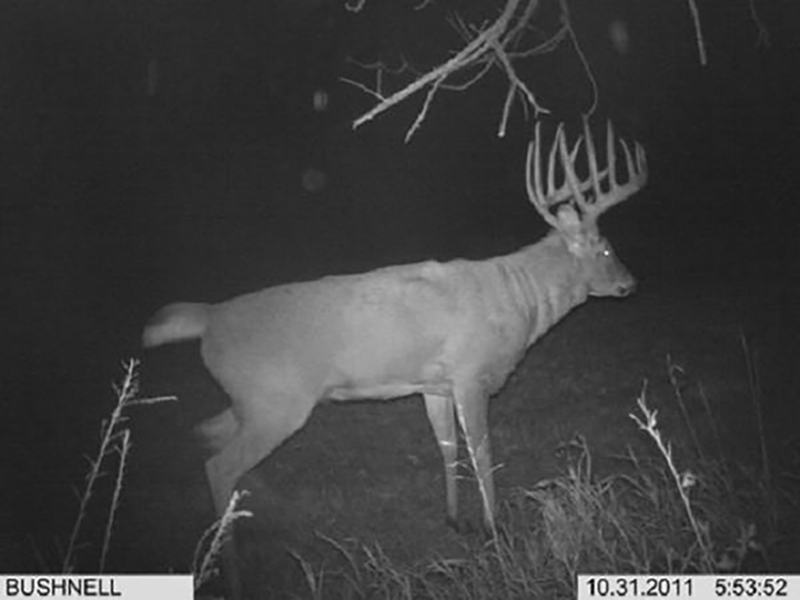cervo: (137, 102, 655, 548)
